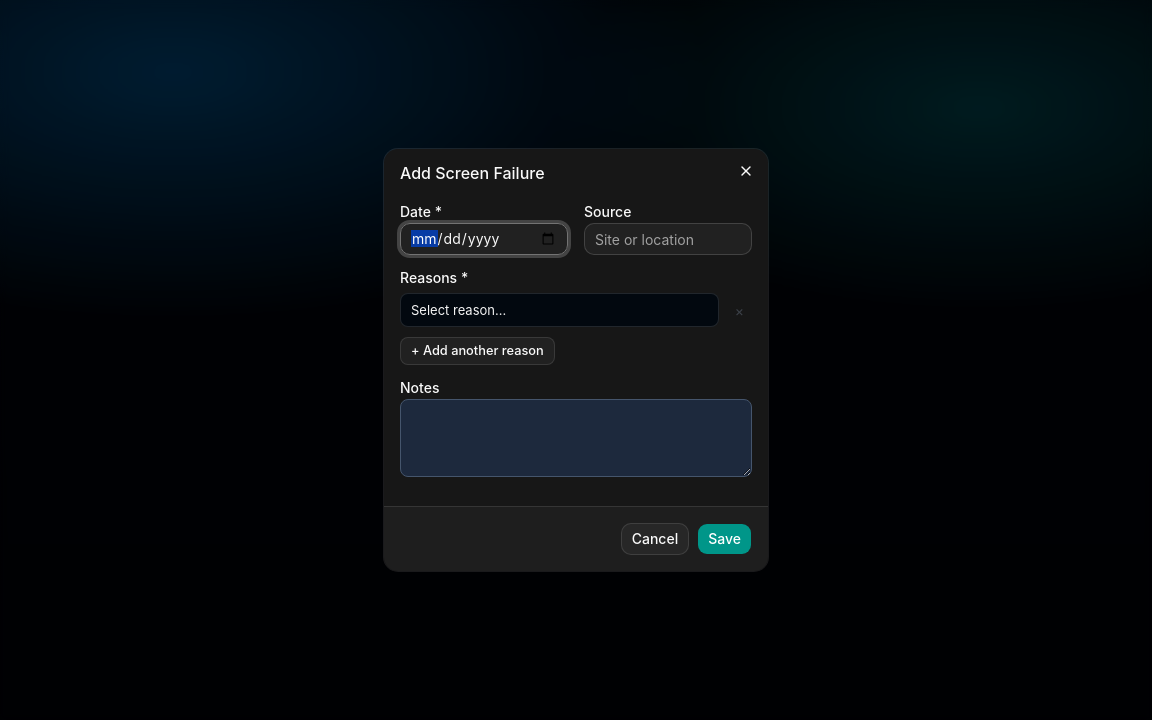
Test case: ScreenFailureForm › shows error when date is missing
The width and height of the screenshot is (1152, 720).
Click the button "Save" at (725,539), box [697,523,752,555]
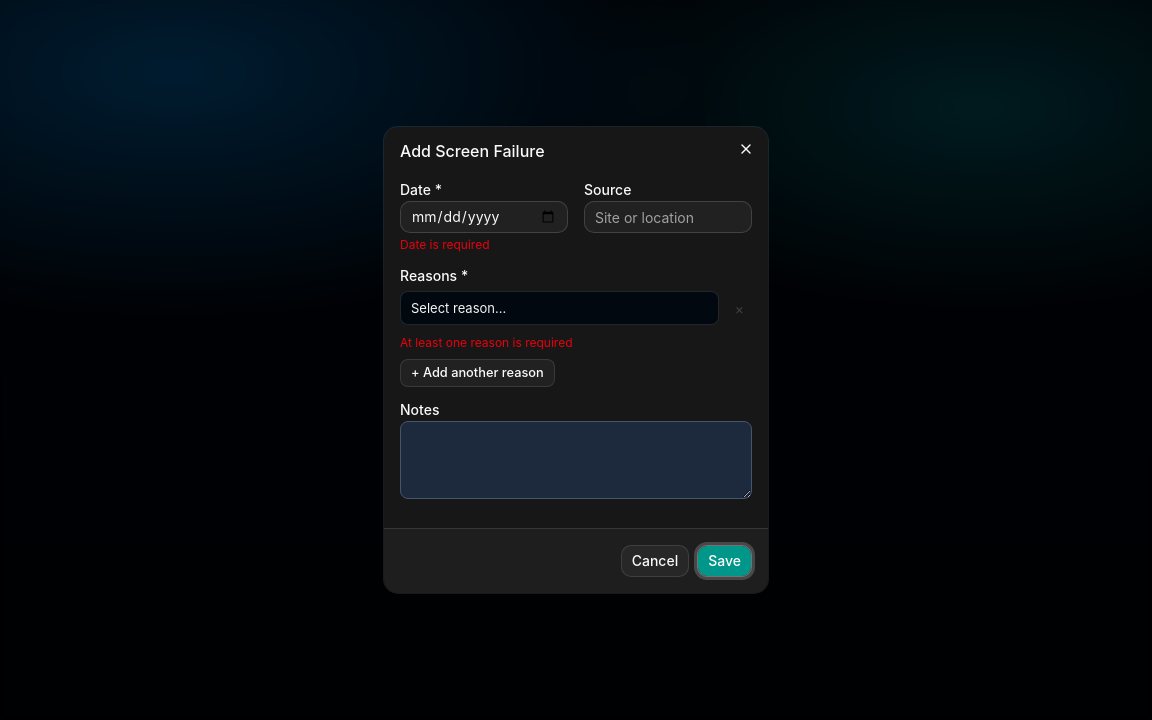
Expected: the text "Date is required" is shown, [400,237,490,252]
